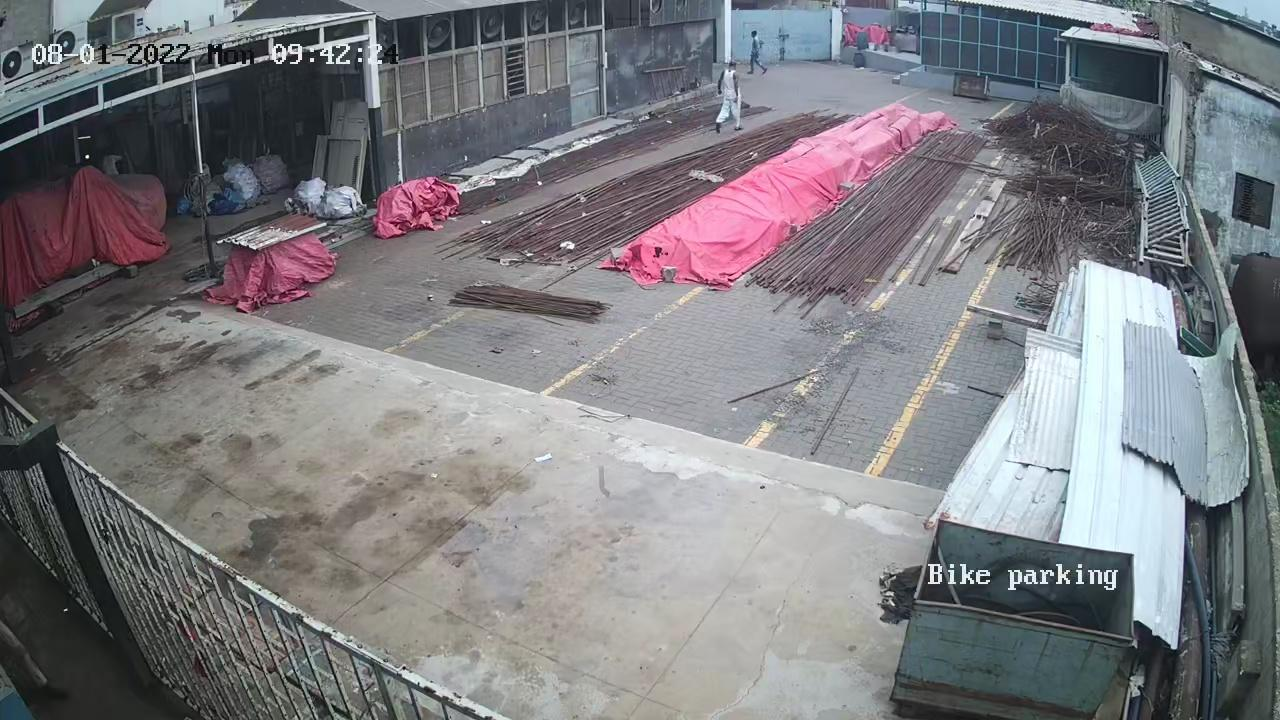person: (709, 55, 750, 133), (747, 28, 770, 68)
